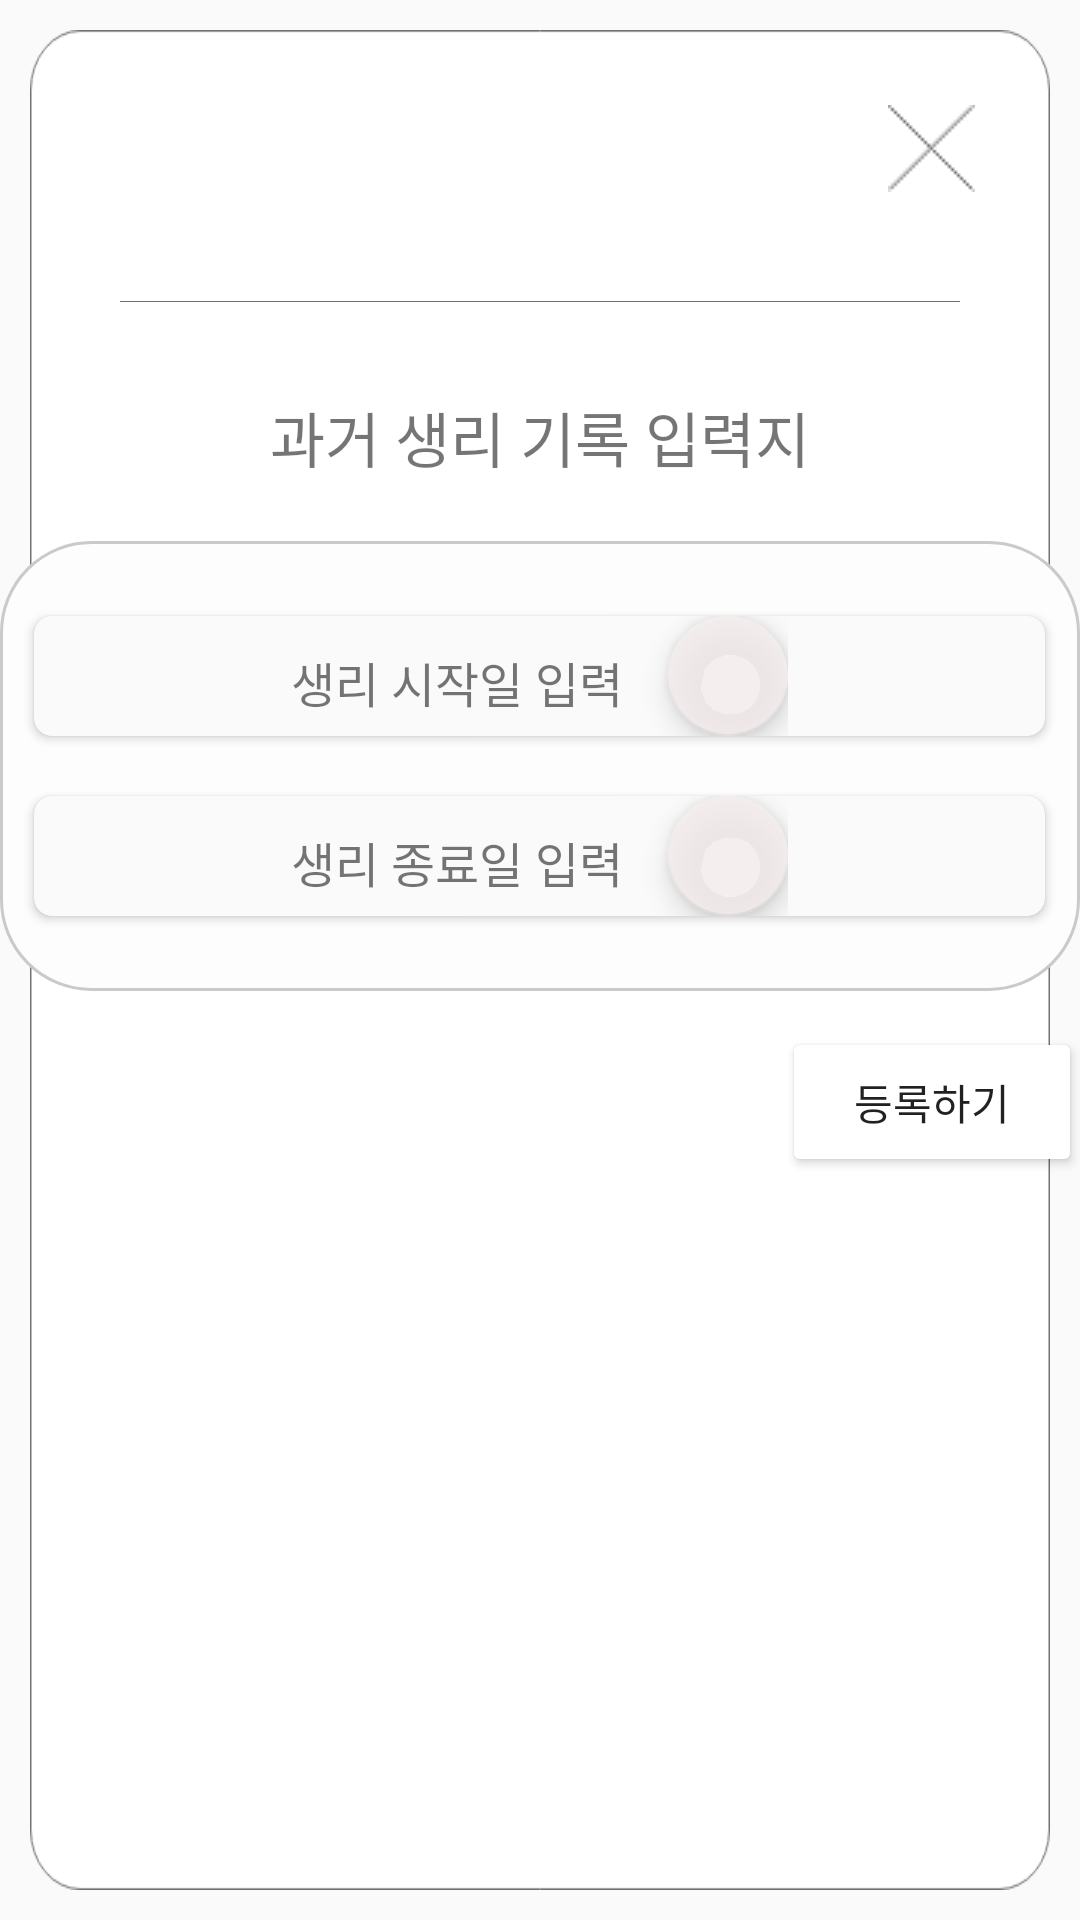

Named icons in this screenshot (1080*1920) and their centers, point (x, y):
san exit: point (931, 148)
